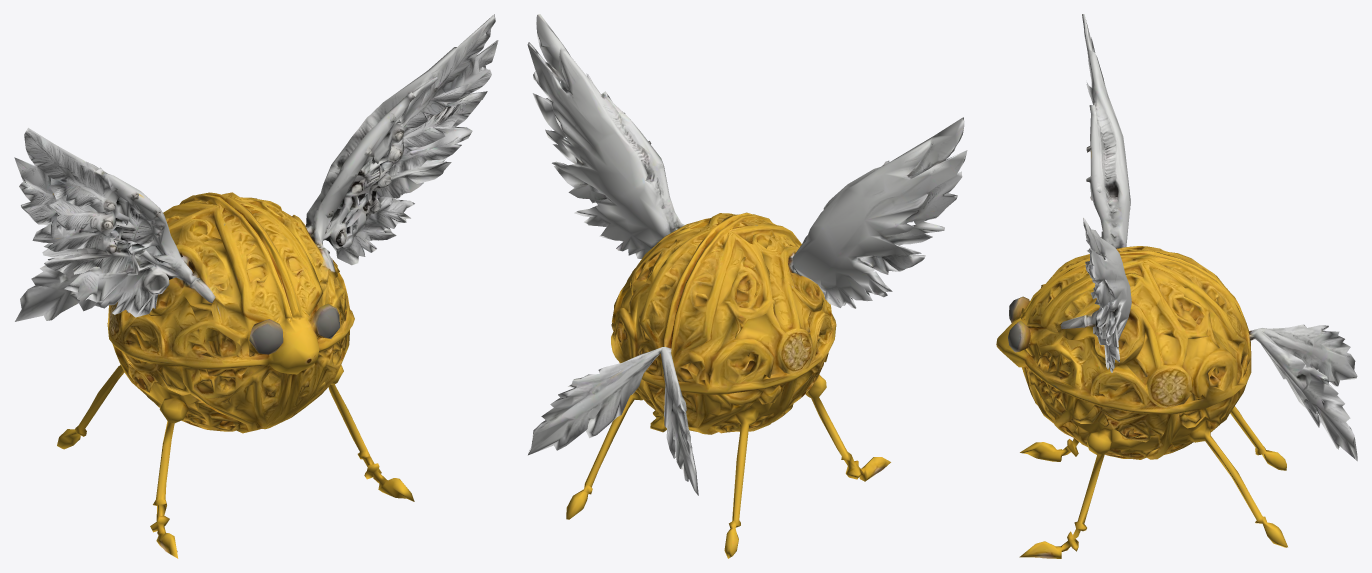
The model's file is golden_orb.glb.
3 views of the same model, side by side, from view 1: azimuth 30°, elevation 25°; view 2: azimuth 150°, elevation 25°; view 3: azimuth 270°, elevation 25° (orthographic). The views are drawn at different scales.
Parts seen in each view (by area): view 1: tripo_node_2bf80154-6519-4413-90ec-3edc42163f58; view 2: tripo_node_2bf80154-6519-4413-90ec-3edc42163f58; view 3: tripo_node_2bf80154-6519-4413-90ec-3edc42163f58.
Boxes of the visible parts, <box> form: tripo_node_2bf80154-6519-4413-90ec-3edc42163f58: <box>14,14,498,558</box>; tripo_node_2bf80154-6519-4413-90ec-3edc42163f58: <box>527,14,967,558</box>; tripo_node_2bf80154-6519-4413-90ec-3edc42163f58: <box>996,14,1357,558</box>.
Size of the model in its own units: 0.9786 by 0.8491 by 0.7049.
1 material, 1 textured.
